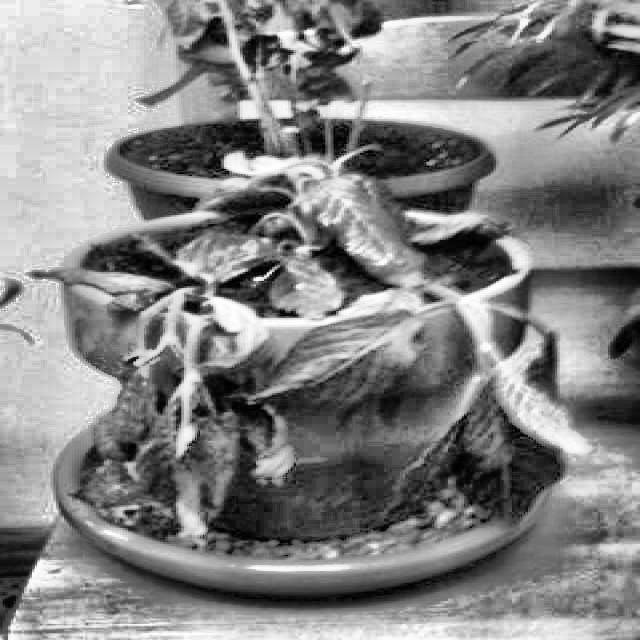plants: (51, 150, 584, 592)
